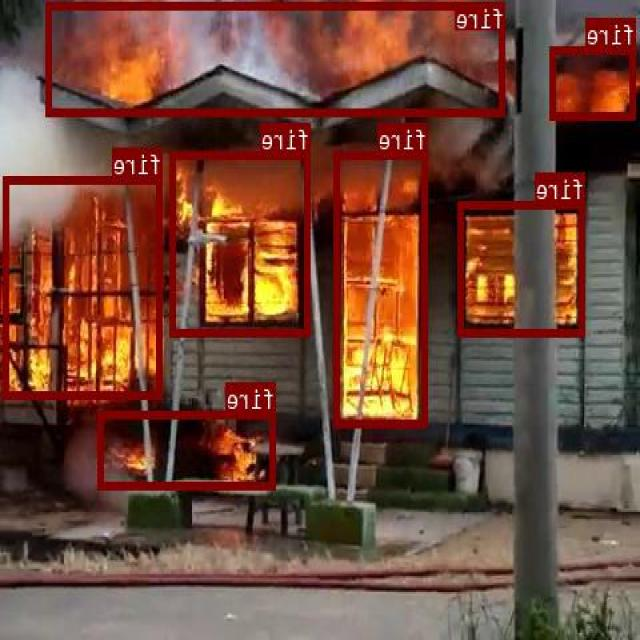fire: (47, 1, 506, 114), (5, 175, 163, 396), (171, 150, 312, 335), (336, 150, 429, 427), (459, 200, 586, 334), (100, 410, 276, 489), (552, 46, 636, 118)
